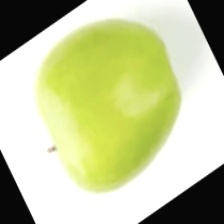apple: (16, 36, 164, 213)
